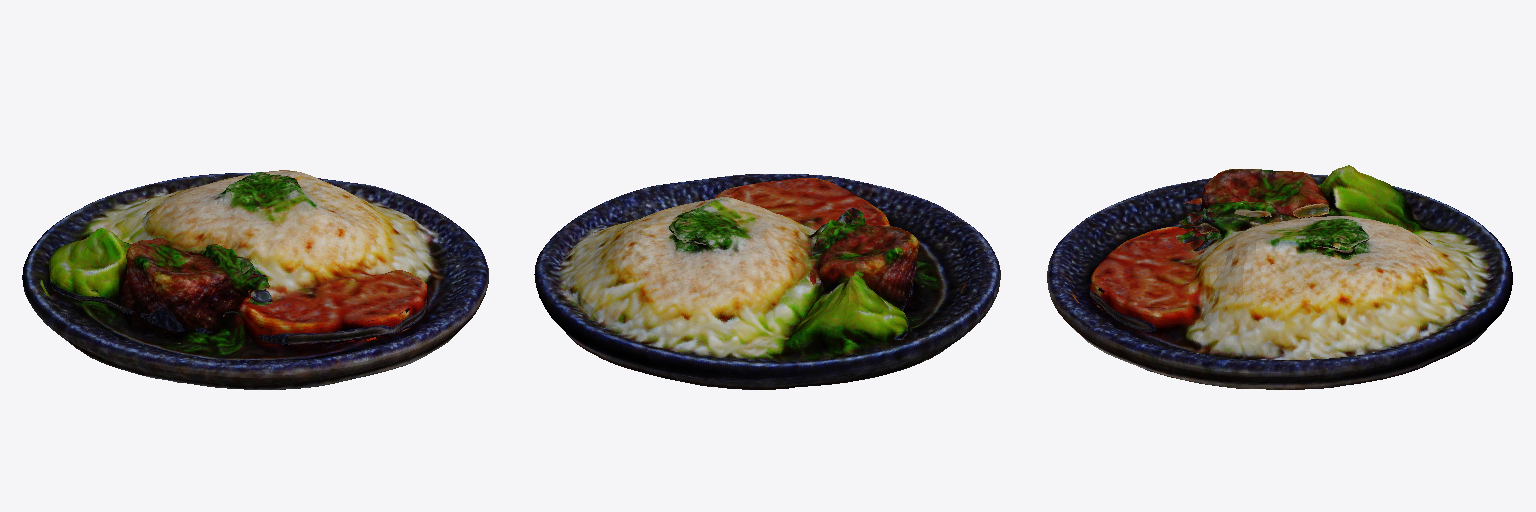
3 views of the same model, side by side, from view 1: azimuth 30°, elevation 25°; view 2: azimuth 150°, elevation 25°; view 3: azimuth 270°, elevation 25° (orthographic).
Visible parts, largest first — view 1: mesh; view 2: mesh; view 3: mesh.
Boxes of the visible parts, x1,y1,x2,y2 form: mesh: [22, 170, 488, 389]; mesh: [534, 174, 1000, 389]; mesh: [1047, 165, 1512, 389].
Size of the model in its own units: 0.9954 by 0.2104 by 0.9987.
1 materials, 1 textured.